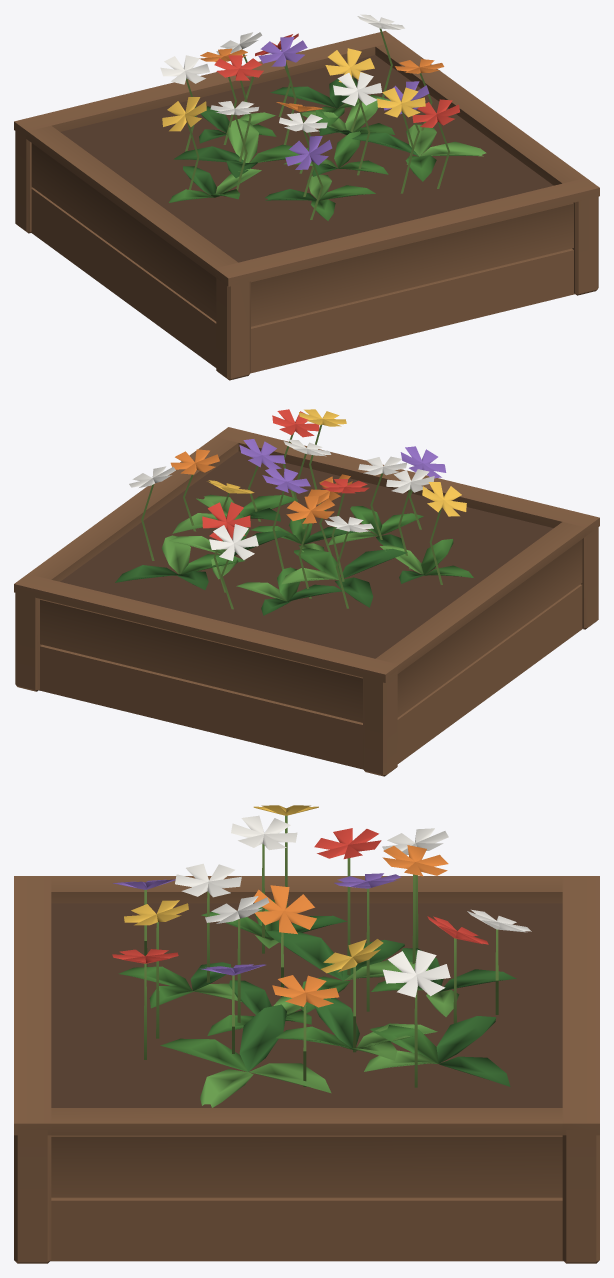
Rendered from flowerbed.glb.
3 views of the same model, one above another, from view 1: azimuth 30°, elevation 25°; view 2: azimuth 150°, elevation 25°; view 3: azimuth 270°, elevation 25° (orthographic). The views are drawn at different scales.
Parts seen in each view (by area): view 1: flowerbed; view 2: flowerbed; view 3: flowerbed.
Part boxes in pixels (bbox=[...]): flowerbed: bbox=[14, 14, 599, 380]; flowerbed: bbox=[14, 409, 599, 776]; flowerbed: bbox=[14, 805, 599, 1263].
Bounding box in the file's own units: 0.94 × 0.475 × 0.94.
